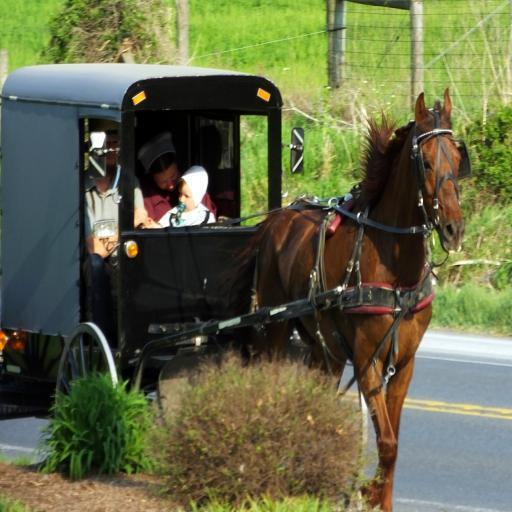horse: (230, 88, 466, 512)
